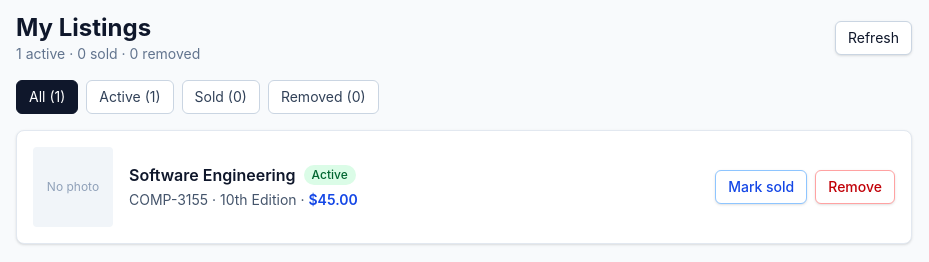
Test: MyListingsView Component (US-07) › marks a listing as sold and updates its badge
The image size is (929, 262).
Expected: the heading "Software Engineering" is shown, [129,164,296,186]
Step 1. Click the button "Mark sold" → (761, 187), box [715,170,807,204]
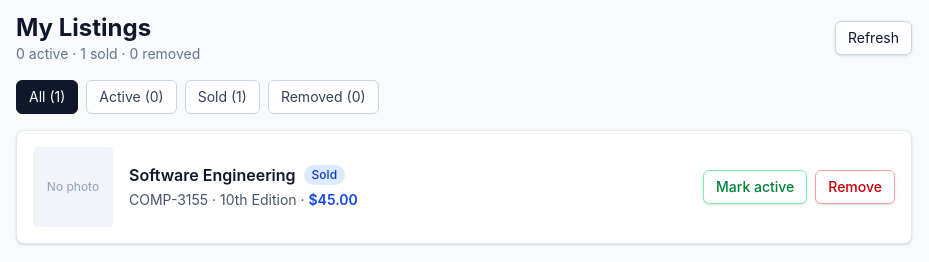
Expected: the text "Sold" is shown, [304,165,345,185]
Expected: the button "Mark active" is shown, [703,170,807,204]
